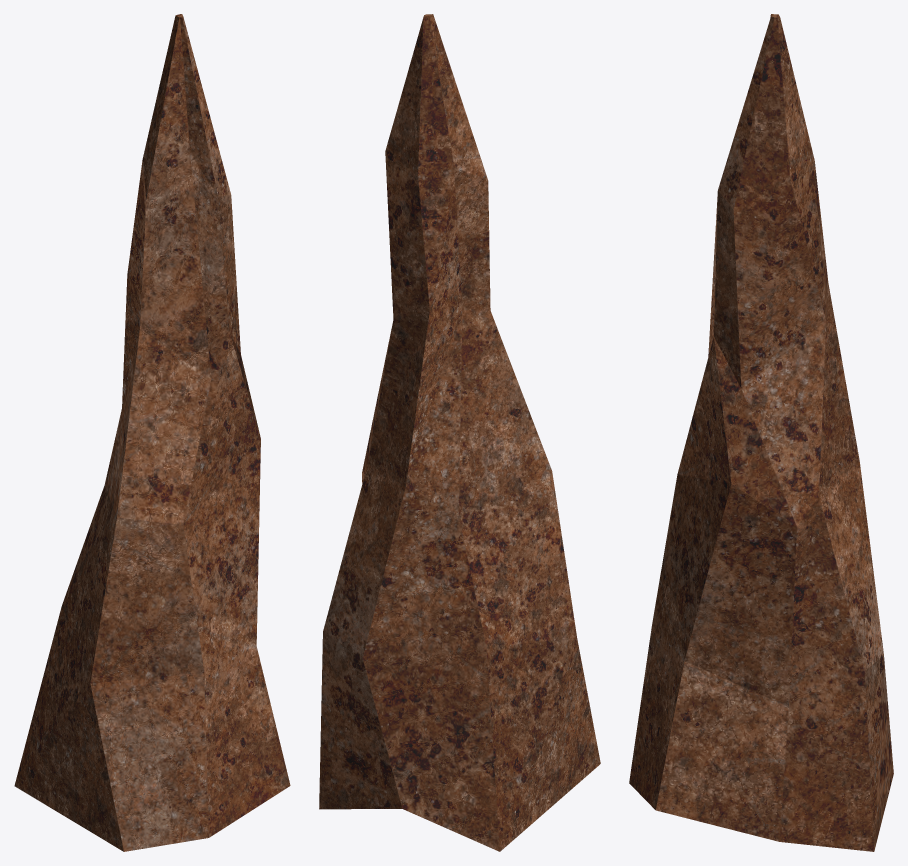
Rendered from rock2.glb.
3 renders of one model, left to right at view 1: azimuth 30°, elevation 25°; view 2: azimuth 150°, elevation 25°; view 3: azimuth 270°, elevation 25°, orthographic. The views are drawn at different scales.
Parts seen in each view (by area): view 1: Stal02; view 2: Stal02; view 3: Stal02.
Boxes of the visible parts, x1=… form: Stal02: x1=14, y1=14, x2=290, y2=851; Stal02: x1=319, y1=14, x2=600, y2=851; Stal02: x1=629, y1=14, x2=893, y2=851.
Size of the model in its own units: 0.6754 by 2.53 by 0.7528.
1 material, 1 textured.
